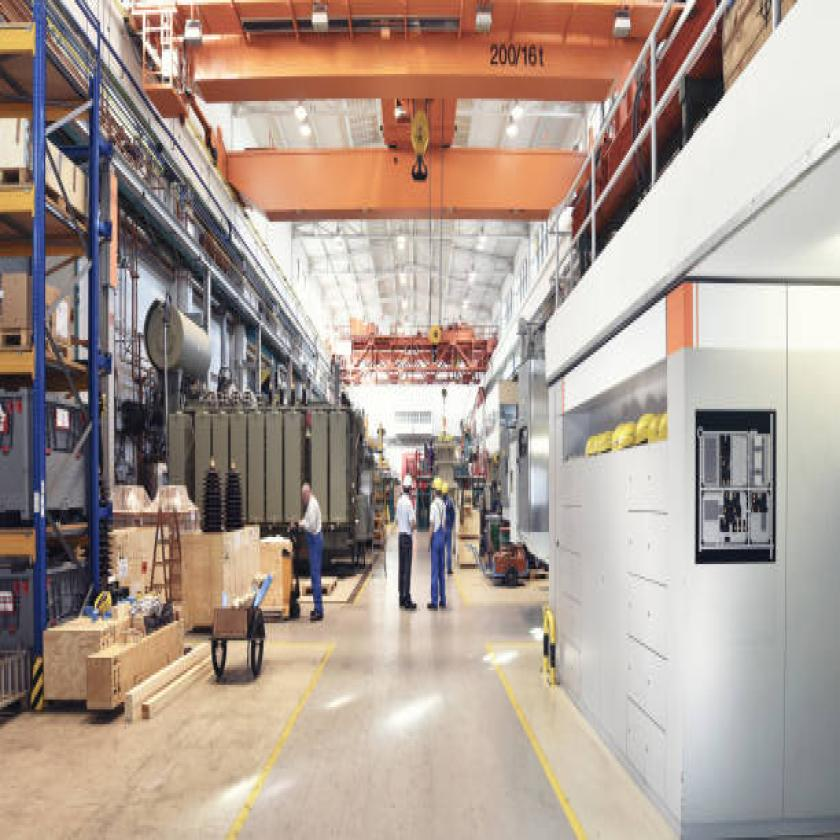Con_casco: (400, 468, 416, 500), (427, 472, 444, 502)
Sin_casco: (299, 476, 312, 504)
